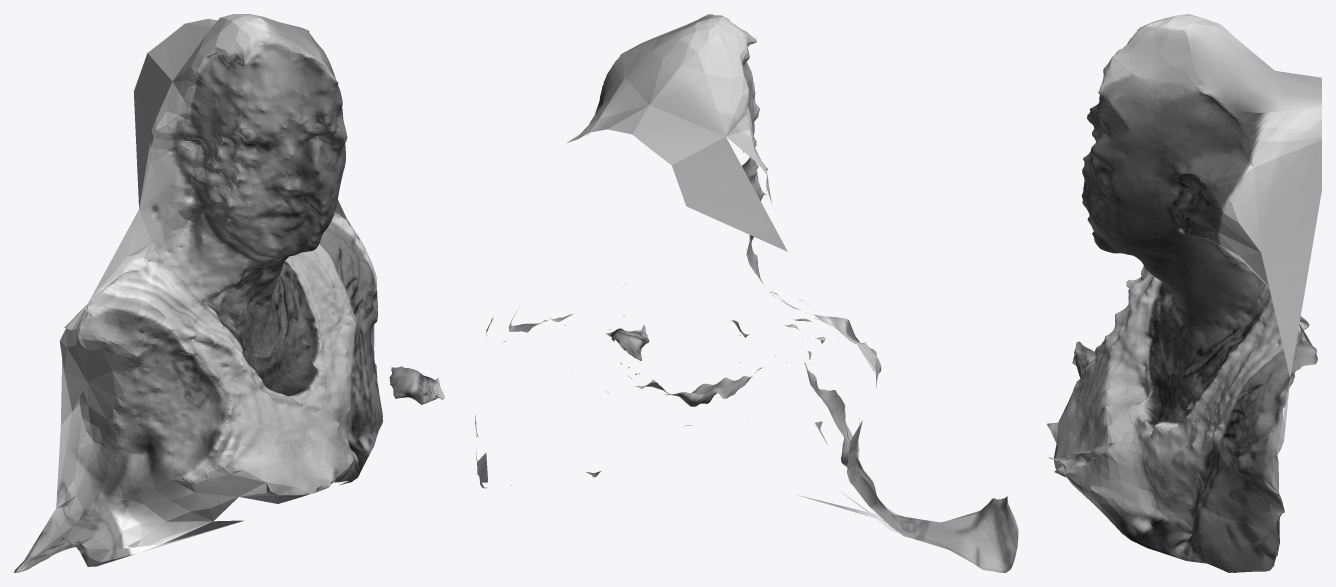
Rendered from joelkscan2.glb.
The picture shows the model from 3 angles, left to right: view 1: azimuth 30°, elevation 25°; view 2: azimuth 150°, elevation 25°; view 3: azimuth 270°, elevation 25°; orthographic projection. The views are drawn at different scales.
Visible parts, largest first — view 1: mesh; view 2: mesh; view 3: mesh.
Part boxes in pixels (<box>): mesh: <box>14,14,444,572</box>; mesh: <box>475,14,1018,572</box>; mesh: <box>1047,14,1321,572</box>.
Bounding box in the file's own units: 0.7259 × 0.7546 × 0.3829.
1 material, 1 textured.
